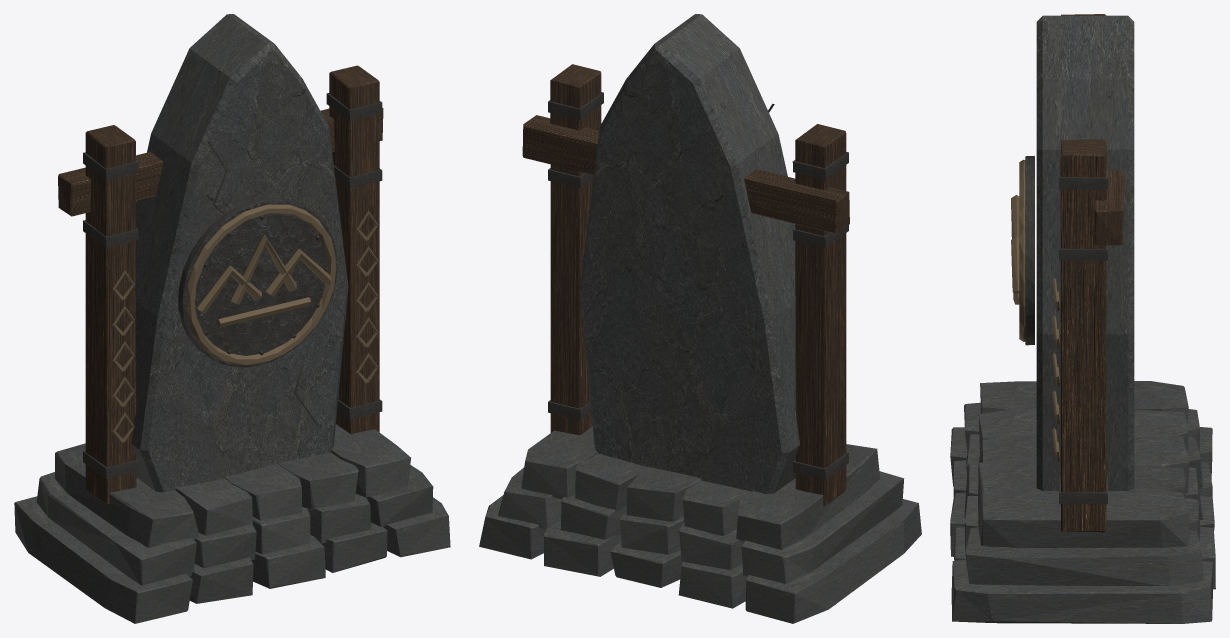
File: barrosan_clan_waystone_lod1.glb
3 renders of one model, left to right at view 1: azimuth 30°, elevation 25°; view 2: azimuth 150°, elevation 25°; view 3: azimuth 270°, elevation 25°, orthographic. The views are drawn at different scales.
Visible parts, largest first — view 1: barrosan_clan_waystone; view 2: barrosan_clan_waystone; view 3: barrosan_clan_waystone.
Part boxes in pixels (x1,y1,x2,y2): barrosan_clan_waystone: (14, 14, 450, 623); barrosan_clan_waystone: (479, 14, 921, 623); barrosan_clan_waystone: (950, 14, 1215, 623).
Bounding box in the file's own units: 3.03 × 4.42 × 1.99.
Materials: 4 (3 with a texture image).
